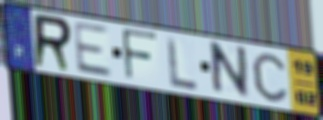C: (250, 51, 289, 104)
E: (70, 19, 115, 79)
F: (120, 26, 160, 84)
L: (165, 34, 200, 92)
N: (211, 40, 251, 101)
R: (32, 12, 74, 75)
